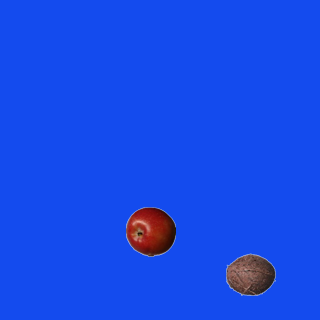Apple Braeburn: (125, 206, 175, 256)
Cocos: (225, 249, 275, 299)
